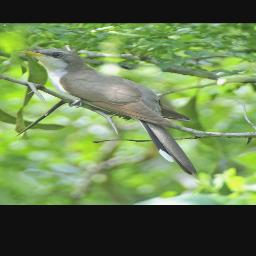Cuckoo: (16, 48, 198, 175)
